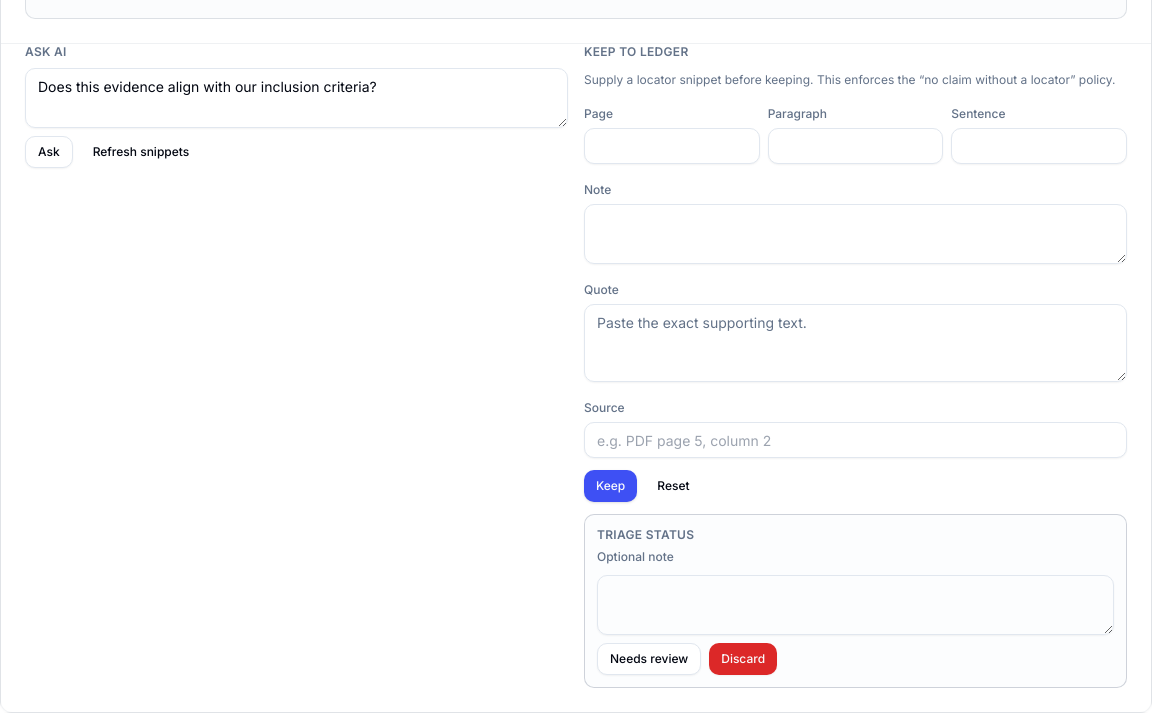
CandidateCard triage actions › marks a candidate as needs review with optional note
(page scrolled)
Type "Check eligibility" into the text box with test id "candidate-1-triage-note-input" at {"x": 856, "y": 605}, box [597,575,1114,635]
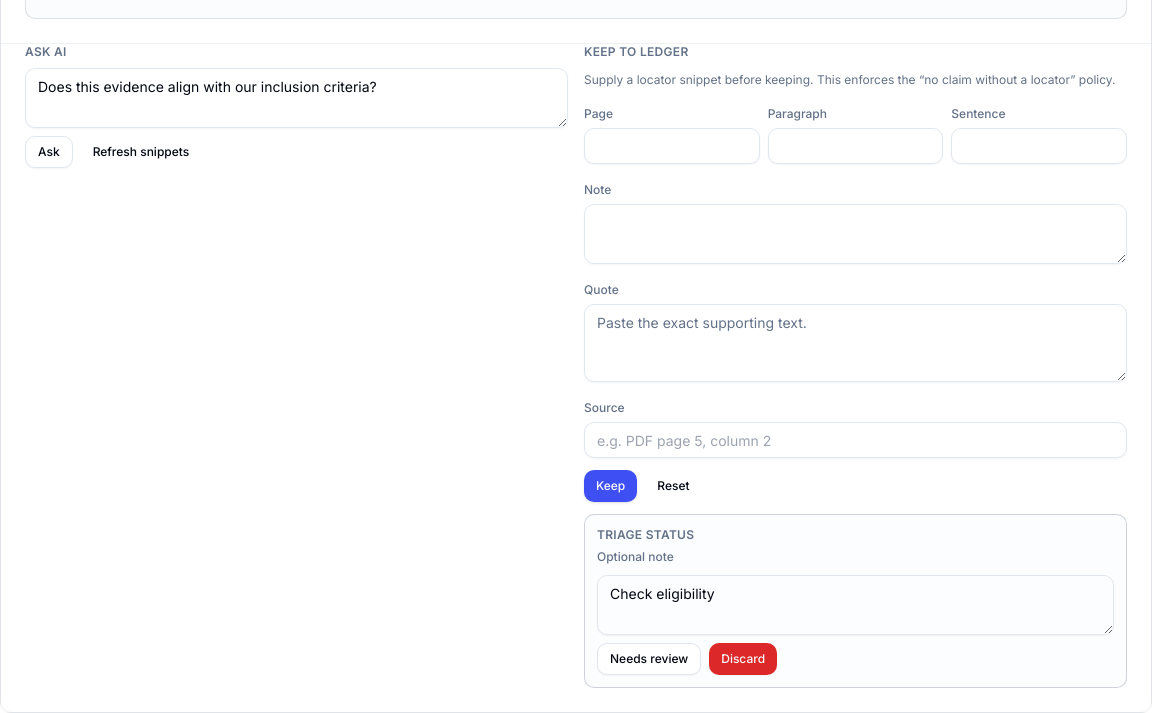
Click the button "Needs review" at {"x": 649, "y": 659}, box [597,643,701,675]
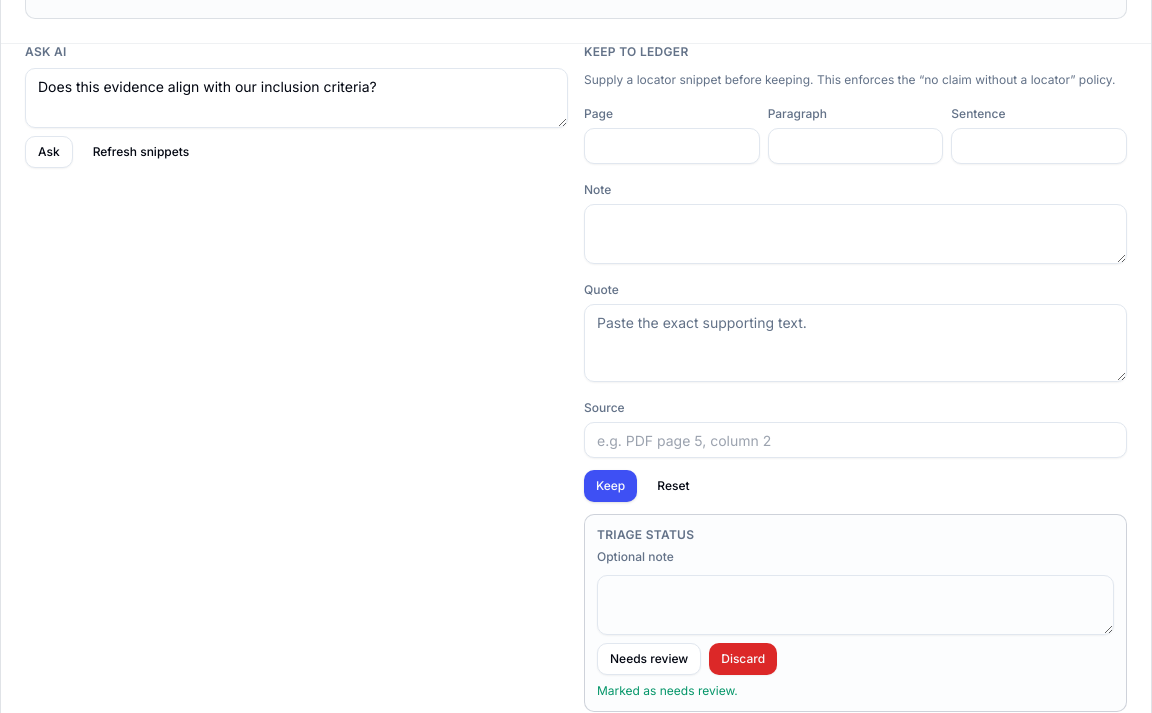
Result: the text box with test id "candidate-1-triage-note-input" is empty at [597,575,1114,635]
Result: the text "Marked as needs review." is shown at [597,683,738,698]
